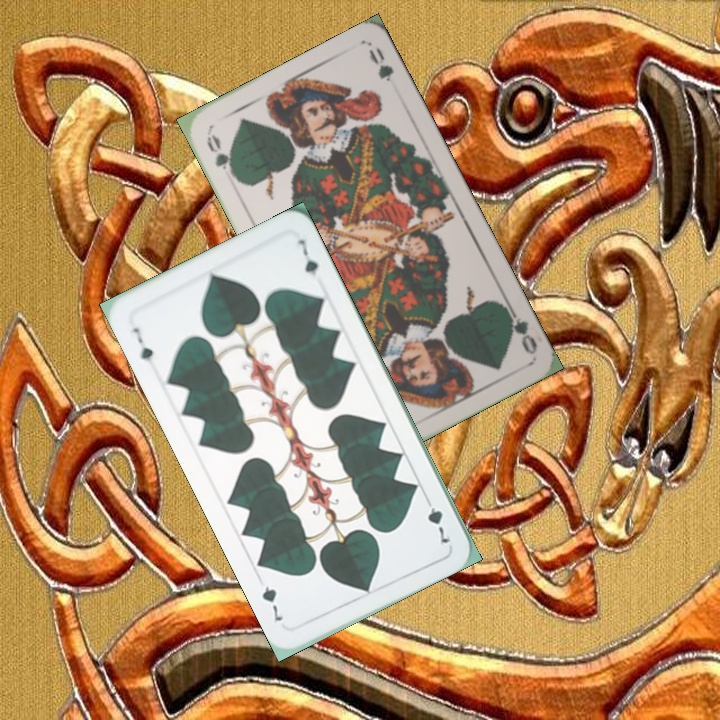G7: (420, 492, 453, 546), (128, 323, 156, 371)
GO: (498, 300, 540, 356), (202, 130, 240, 182)
